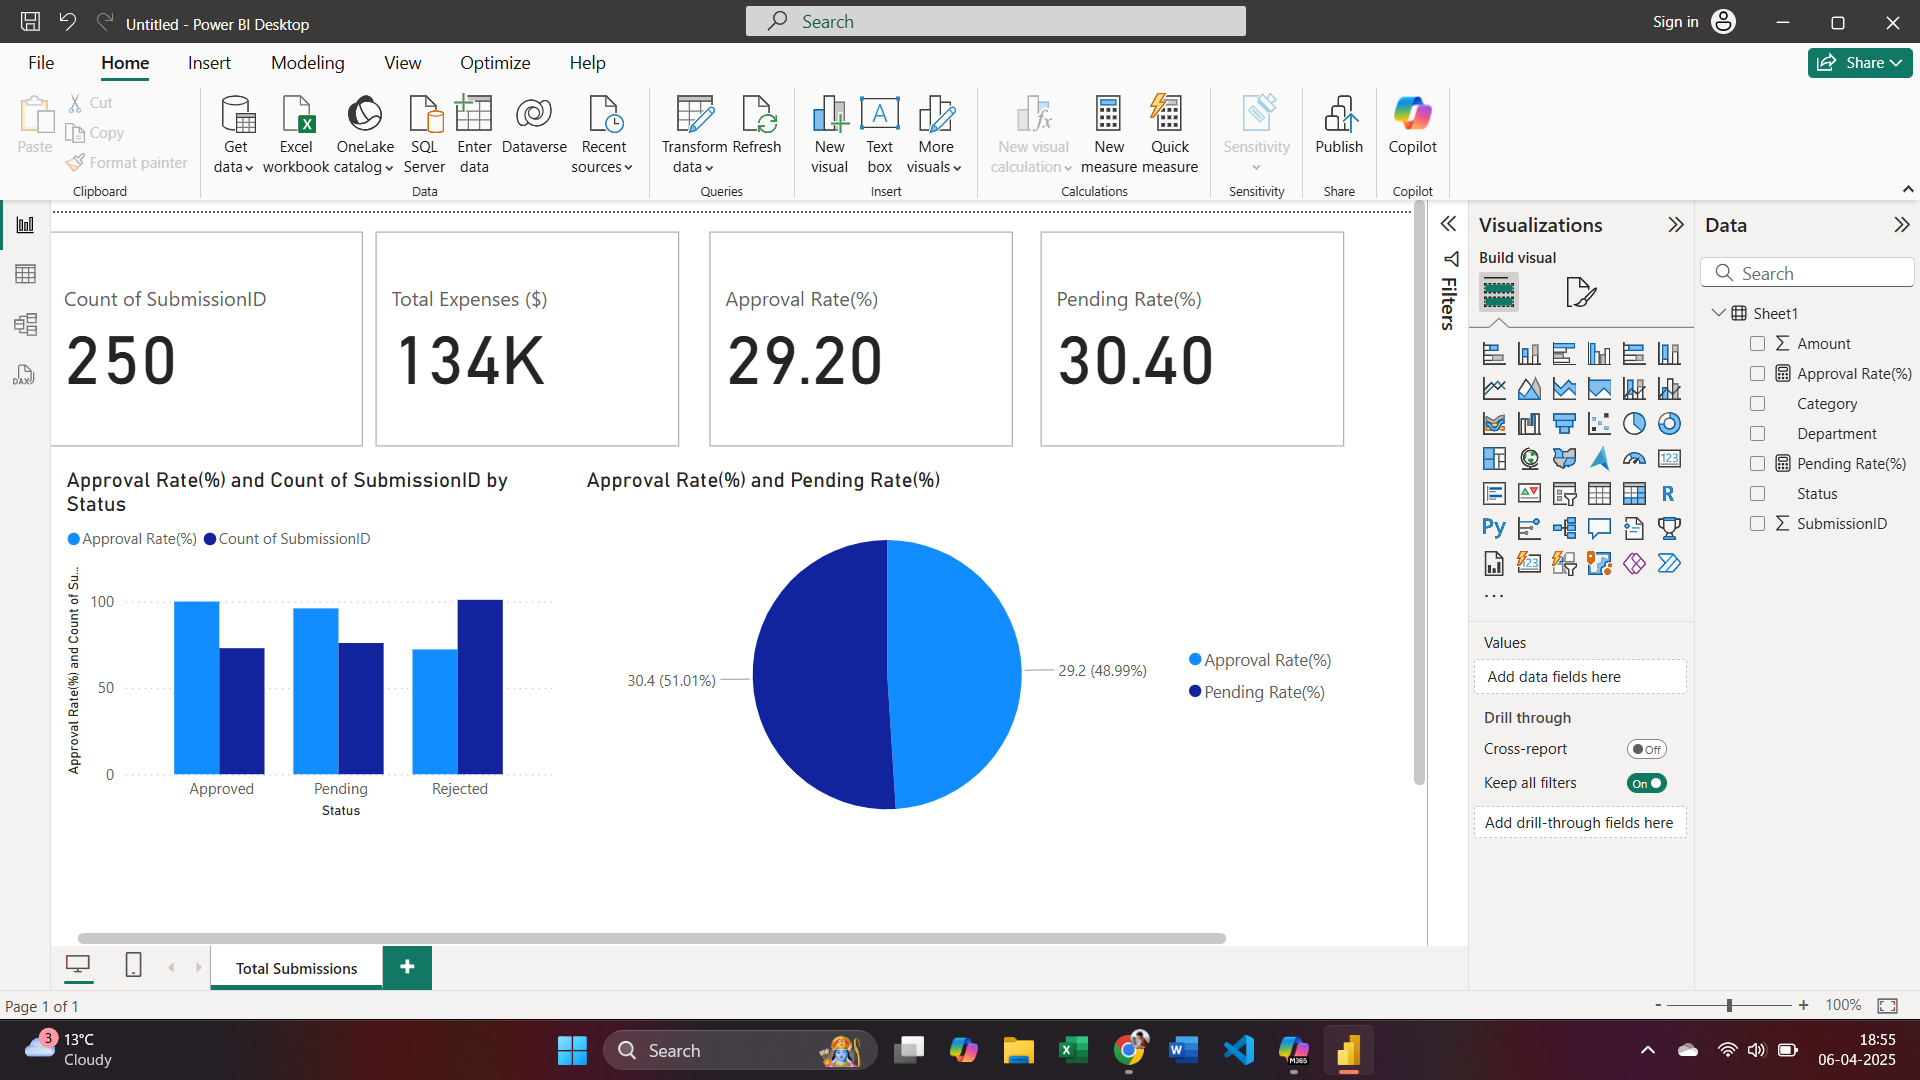

The dashboard page shown, as its layout file describes it:
{"tool":"powerbi","page":{"name":"Total Submissions","canvas":[1280,720],"ordinal":0},"visuals":[{"type":"cardVisual","fields":{"Data":["CountNonNull(Sheet1.SubmissionID)"]},"box":[8,10,262,182],"z":0},{"type":"cardVisual","fields":{"Data":["Sum(Sheet1.Amount)"]},"box":[270,10,253,182],"z":1000},{"type":"cardVisual","fields":{"Data":["Sheet1.Approval Rate(%)"]},"box":[537,10,253,182],"z":2000},{"type":"cardVisual","fields":{"Data":["Sheet1.Pending Rate(%)"]},"box":[802,10,253,182],"z":2001},{"type":"pieChart","fields":{"Y":["Sheet1.Approval Rate(%)","Sheet1.Pending Rate(%)"]},"box":[439,203,616,314],"z":2002},{"type":"clusteredColumnChart","fields":{"Y":["Sheet1.Approval Rate(%)","CountNonNull(Sheet1.SubmissionID)"],"Category":["Sheet1.Status"]},"box":[23,203,401,286],"z":2003}]}

Visuals, with their boxes on the page's 1280x720 design canvas (x1, y1, x2, y2). These are canvas units, not pixel positions in the 1920x1080 screenshot, which may show the page scaled, cropped or inside an application window:
cardVisual - CountNonNull(Sheet1.SubmissionID): [8, 10, 270, 192]
cardVisual - Sum(Sheet1.Amount): [270, 10, 523, 192]
cardVisual - Sheet1.Approval Rate(%): [537, 10, 790, 192]
cardVisual - Sheet1.Pending Rate(%): [802, 10, 1055, 192]
pieChart - Sheet1.Approval Rate(%) x Sheet1.Pending Rate(%): [439, 203, 1055, 517]
clusteredColumnChart - Sheet1.Approval Rate(%) x CountNonNull(Sheet1.SubmissionID): [23, 203, 424, 489]
